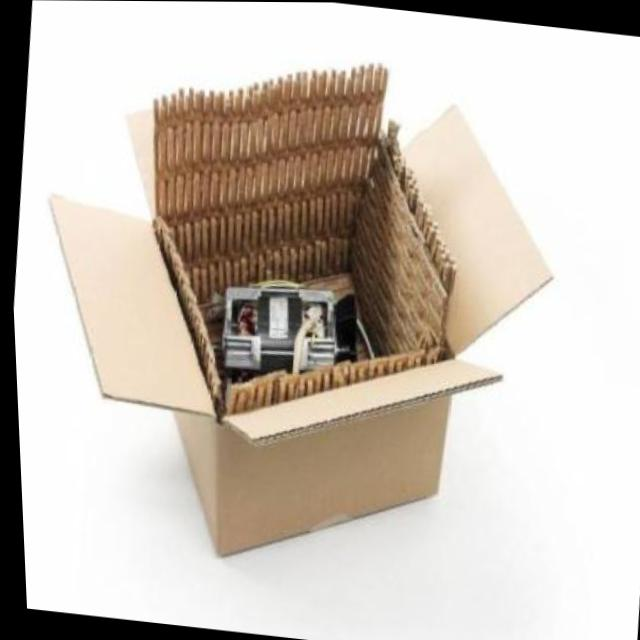box: (0, 9, 593, 608)
